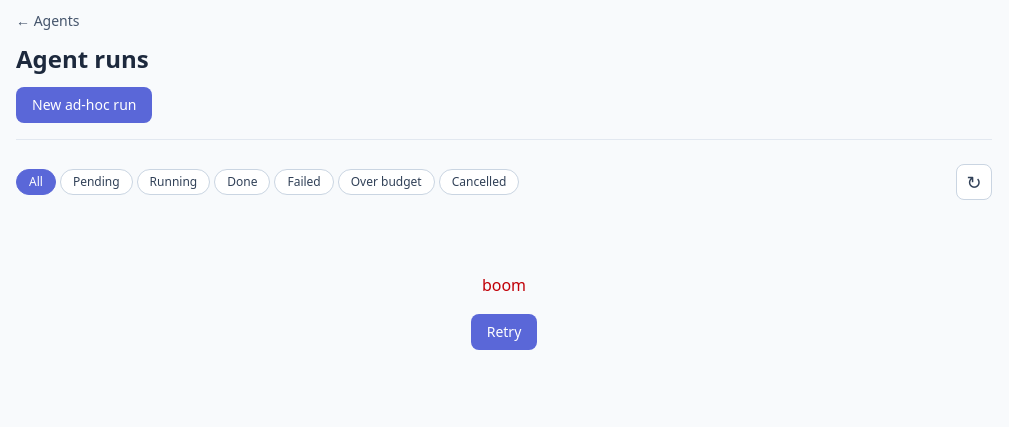
Test: AgentRuns › retries a failed load
Click the button "Retry": (504,332) [471, 314, 537, 350]
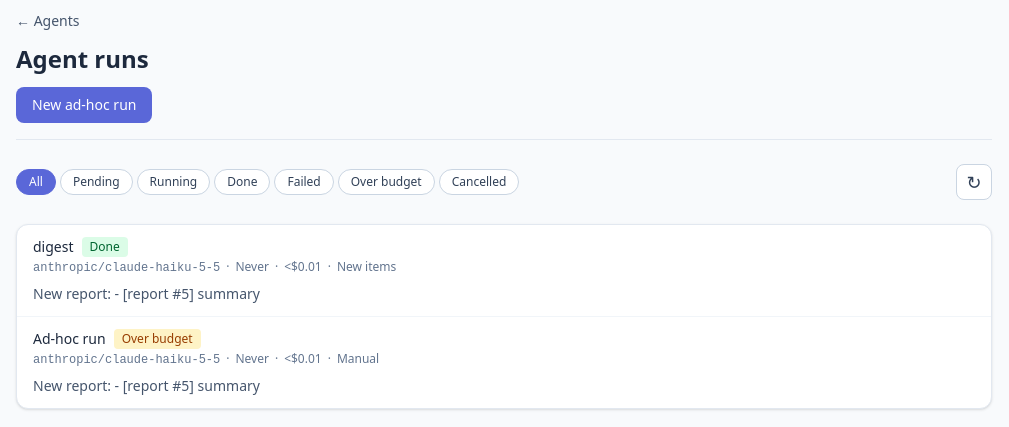
Check: the link "Ad-hoc run" is shown, box [33, 329, 106, 349]
